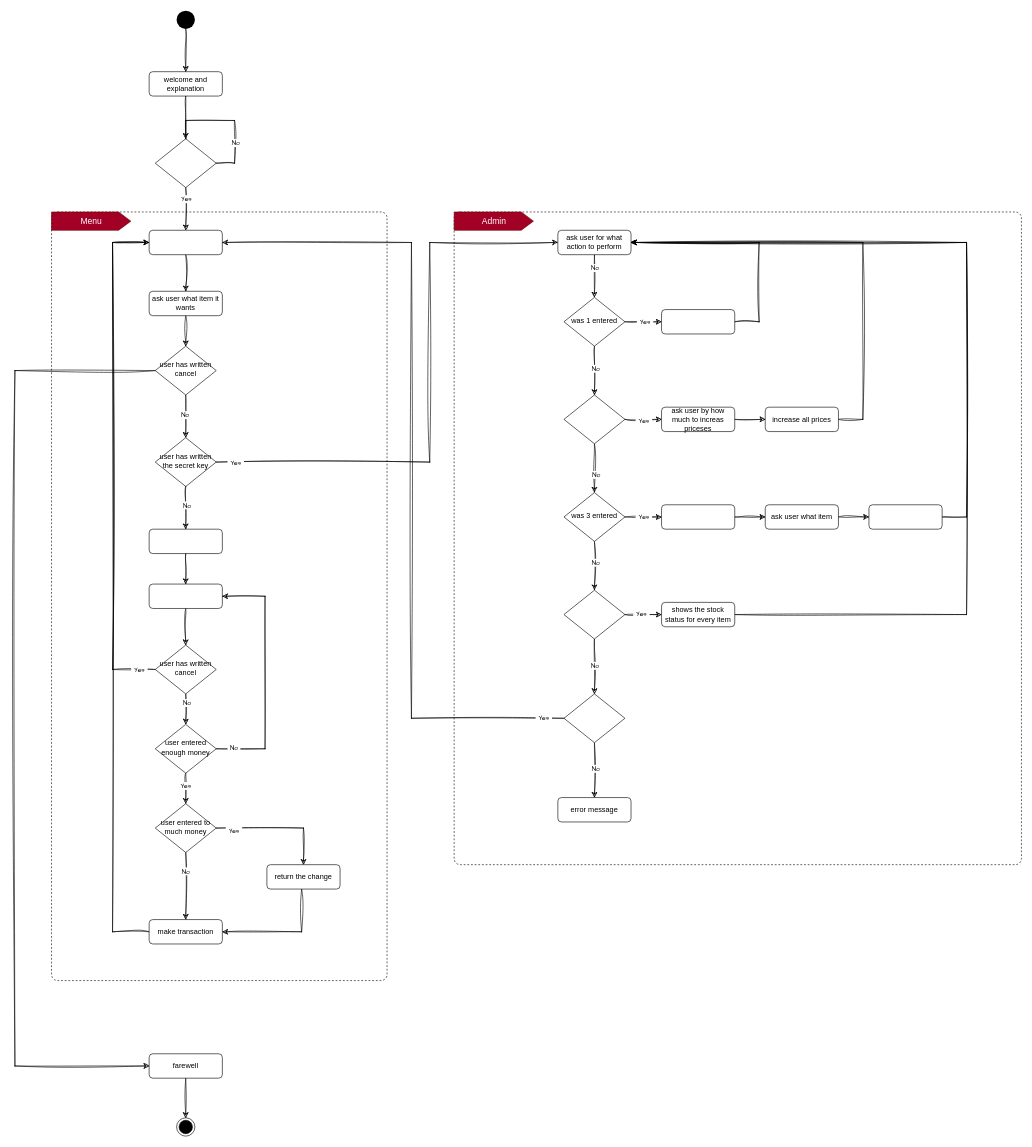
Image size: 1032x1147. Some labels were removed from this diagram. The centre of each missing label's shape, as x and y in pixels:
ask play by how much to increas priceses: (x=698, y=516)
increase the prices ot the item: (x=905, y=516)
request money: (x=185, y=595)
restocks all items: (x=698, y=321)
show chosen item: (x=185, y=541)
show vending machine: (x=185, y=242)
user written "start": (x=185, y=163)
was 2 entered: (x=594, y=419)
was 4 entered: (x=594, y=614)
was 5 entered: (x=594, y=718)
